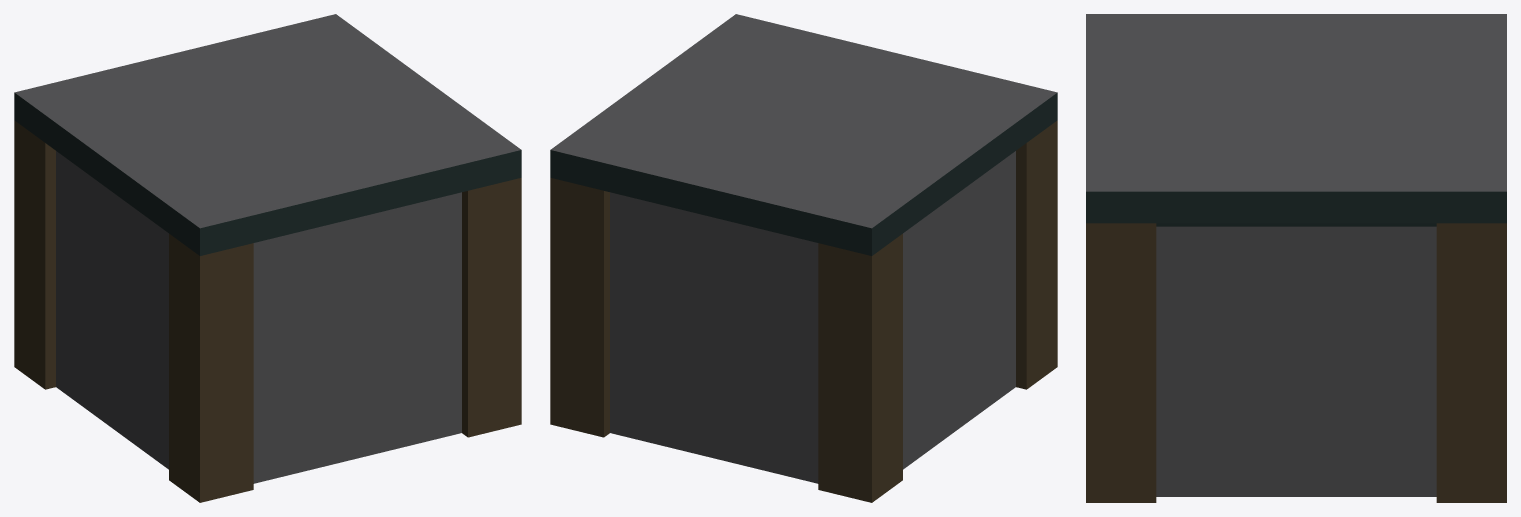
The model's file is Roof_Flat_Green_01.obj.
3 views of the same model, side by side, from view 1: azimuth 30°, elevation 25°; view 2: azimuth 150°, elevation 25°; view 3: azimuth 270°, elevation 25° (orthographic). The views are drawn at different scales.
Parts seen in each view (by area): view 1: Mesh1_Roof_Slant_Green_Model.000_Mesh1_Roof_Slant_Green_Model.0; view 2: Mesh1_Roof_Slant_Green_Model.000_Mesh1_Roof_Slant_Green_Model.0; view 3: Mesh1_Roof_Slant_Green_Model.000_Mesh1_Roof_Slant_Green_Model.0.
Part boxes in pixels (<box>): Mesh1_Roof_Slant_Green_Model.000_Mesh1_Roof_Slant_Green_Model.0: <box>14,14,521,502</box>; Mesh1_Roof_Slant_Green_Model.000_Mesh1_Roof_Slant_Green_Model.0: <box>550,14,1057,502</box>; Mesh1_Roof_Slant_Green_Model.000_Mesh1_Roof_Slant_Green_Model.0: <box>1086,14,1506,502</box>.
Size of the model in its own units: 3 by 2.45 by 3.
